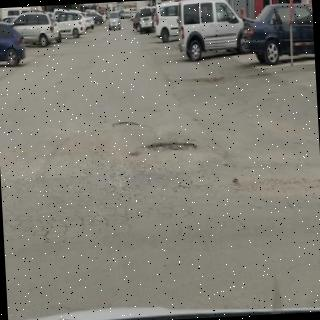pothole: (144, 142, 198, 151)
